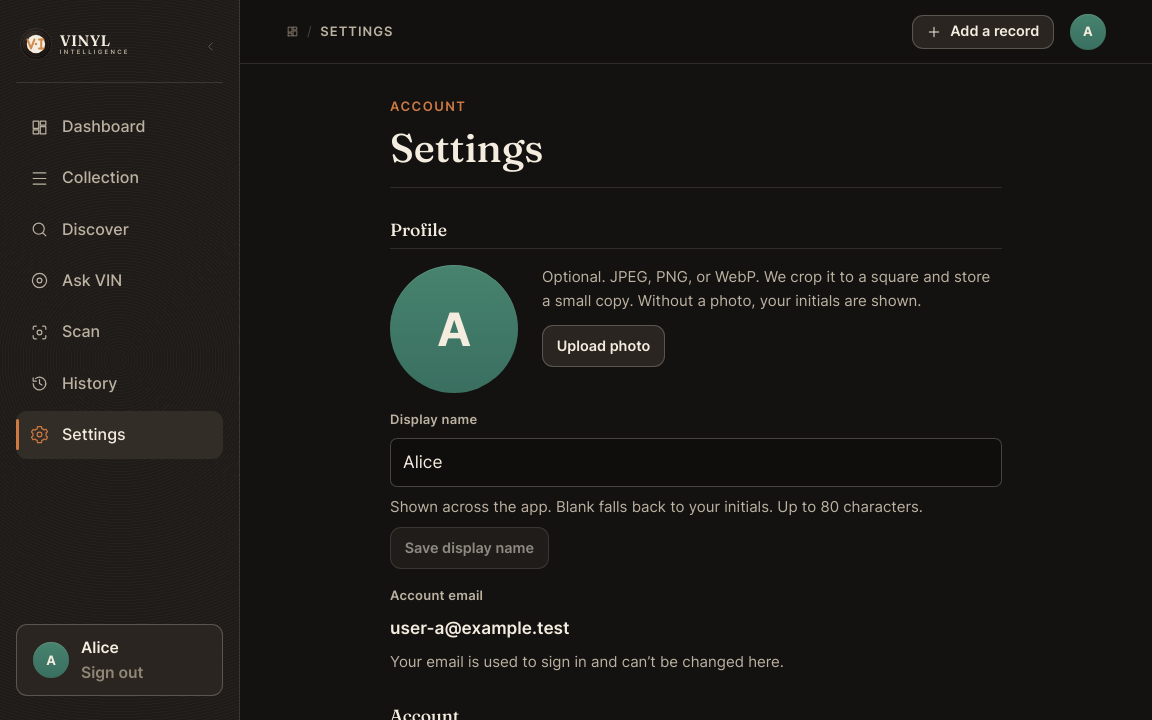
it: auth and profile workflow (routed) › keeps the profile visible after a failed profile update
Replace the text in the field labelled "Display name" with "Alice Updated" at [696, 462], box [390, 438, 1002, 487]
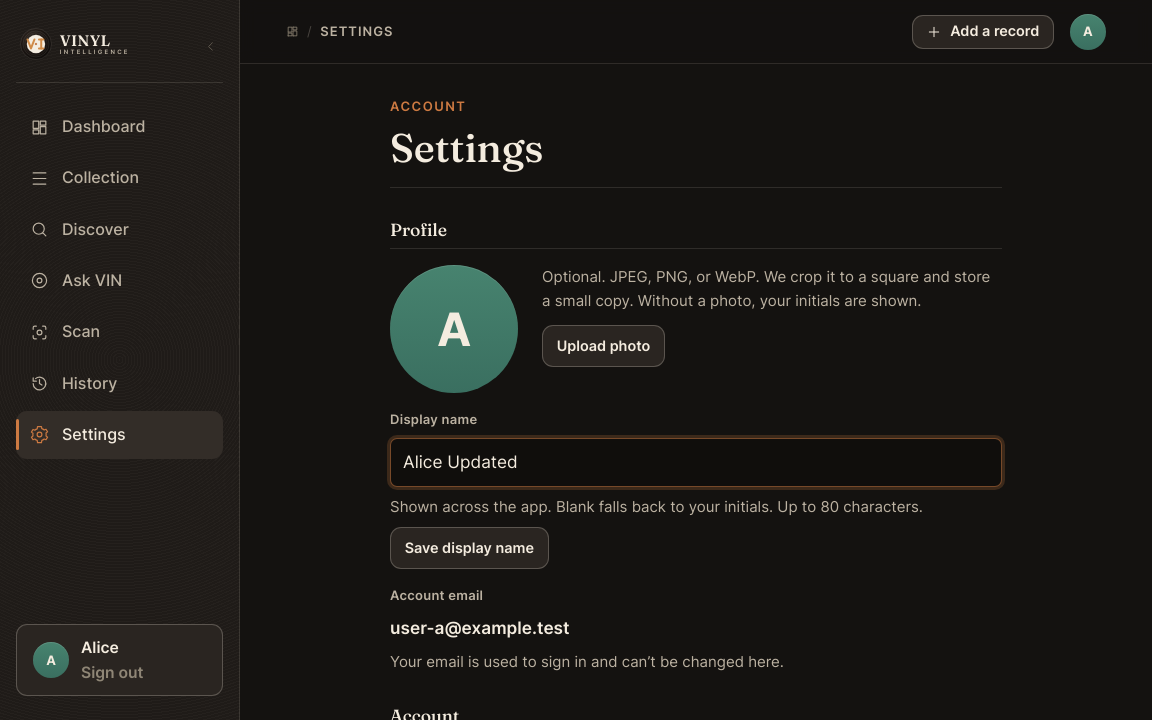
Click the button "Save display name" at [469, 548], box [390, 527, 548, 569]
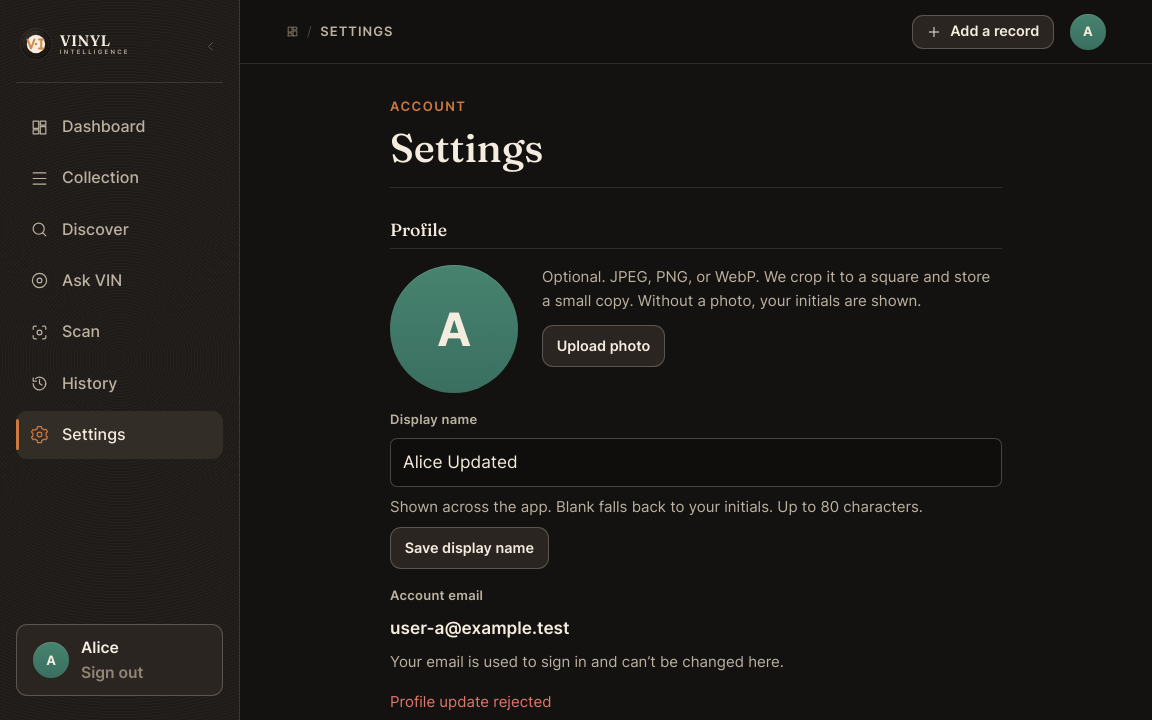
expect the heading "Settings" is shown: met, box [390, 125, 543, 171]
expect the button "Save display name" is enabled: met, box [390, 527, 548, 569]
expect the text "Profile update rejected" is shown: met, box [390, 692, 552, 711]
